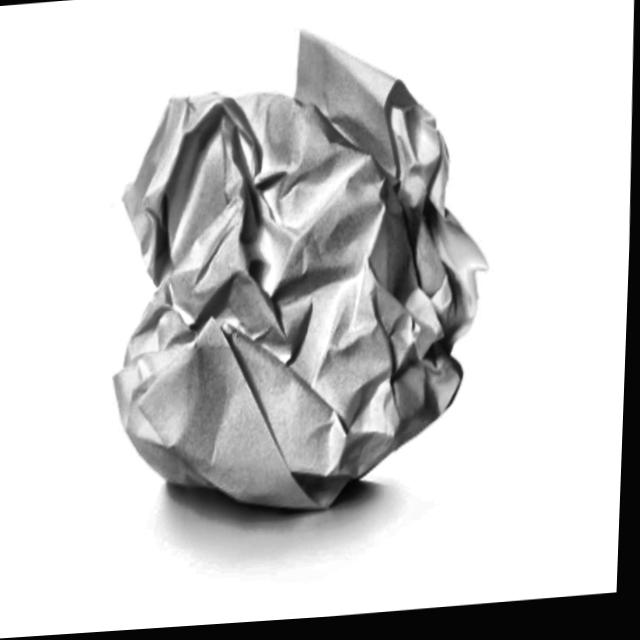Paper: (87, 14, 493, 557)
